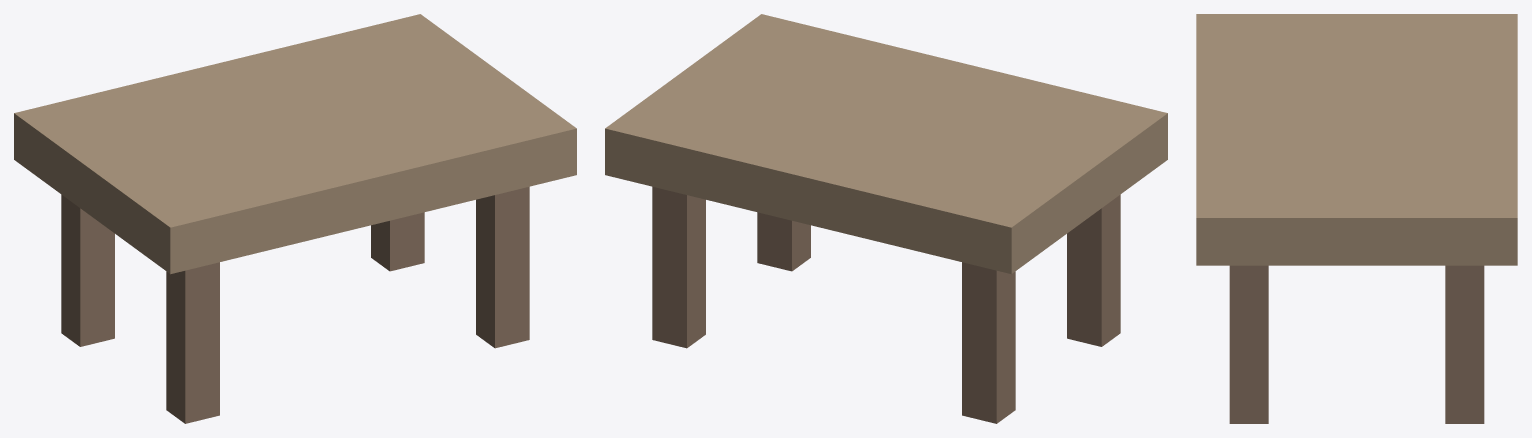
File: mesa_madeira.glb
3 views of the same model, side by side, from view 1: azimuth 30°, elevation 25°; view 2: azimuth 150°, elevation 25°; view 3: azimuth 270°, elevation 25° (orthographic). The views are drawn at different scales.
Parts seen in each view (by area): view 1: part_000, part_002, part_004, part_001, part_003; view 2: part_000, part_001, part_003, part_002, part_004; view 3: part_000, part_003, part_004.
Boxes of the visible parts, x1=… form: part_000: x1=14, y1=14, x2=576, y2=274; part_002: x1=166, y1=262, x2=219, y2=423; part_004: x1=476, y1=186, x2=529, y2=348; part_001: x1=61, y1=194, x2=114, y2=346; part_003: x1=371, y1=212, x2=424, y2=271; part_000: x1=605, y1=14, x2=1167, y2=274; part_001: x1=962, y1=262, x2=1015, y2=423; part_003: x1=652, y1=186, x2=705, y2=348; part_002: x1=1067, y1=194, x2=1120, y2=346; part_004: x1=757, y1=212, x2=810, y2=271; part_000: x1=1196, y1=14, x2=1517, y2=265; part_003: x1=1445, y1=265, x2=1484, y2=423; part_004: x1=1229, y1=265, x2=1268, y2=423.
Size of the model in its own units: 2.1 by 1.07 by 1.4.
